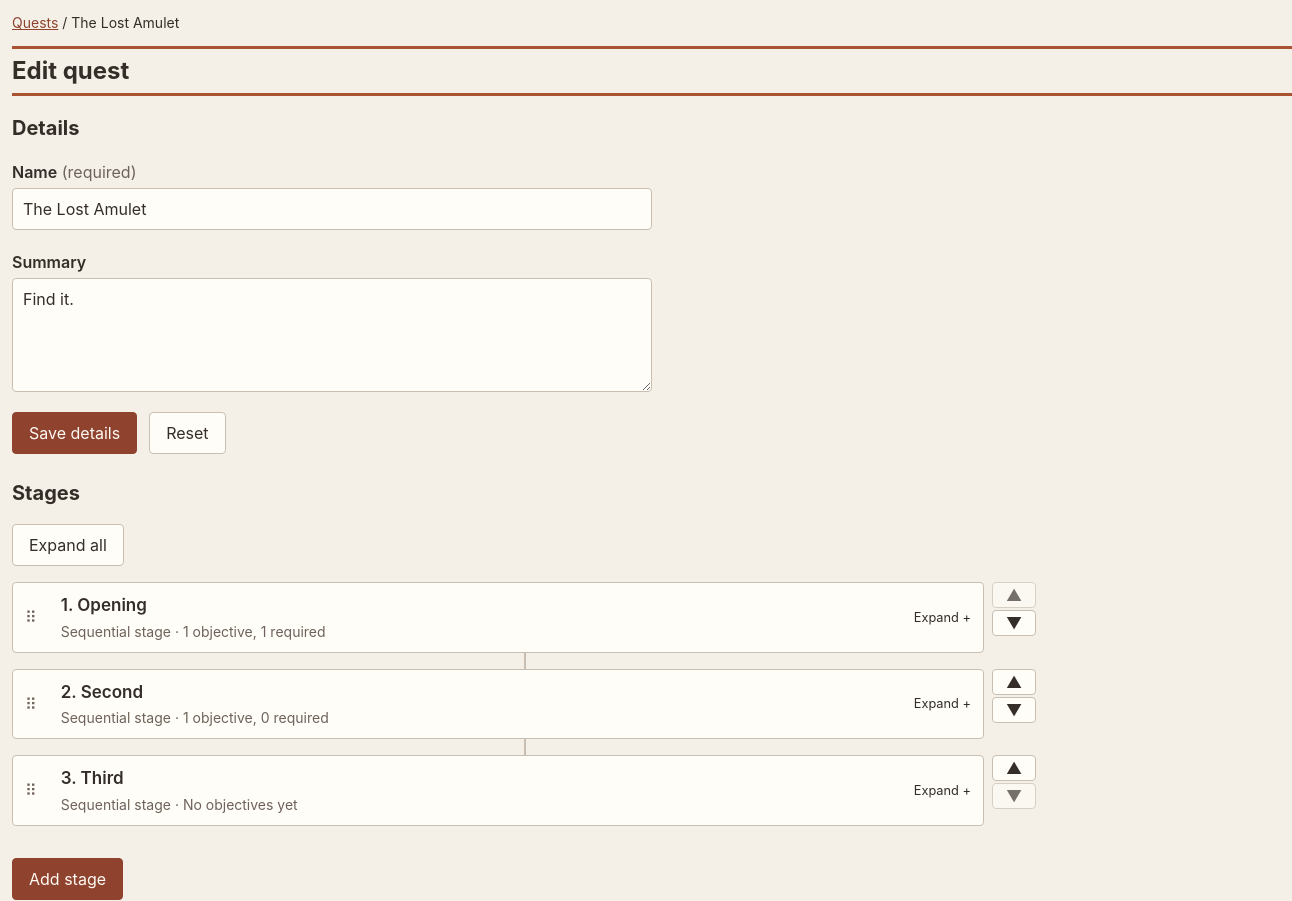
Test: Quest stage cards › starts collapsed and expands or collapses each stage independently without any request
The image size is (1292, 901).
Check: the heading "Reach the ruin" is not shown
Click the button "1. Opening": [112, 605] box [49,583,983,652]
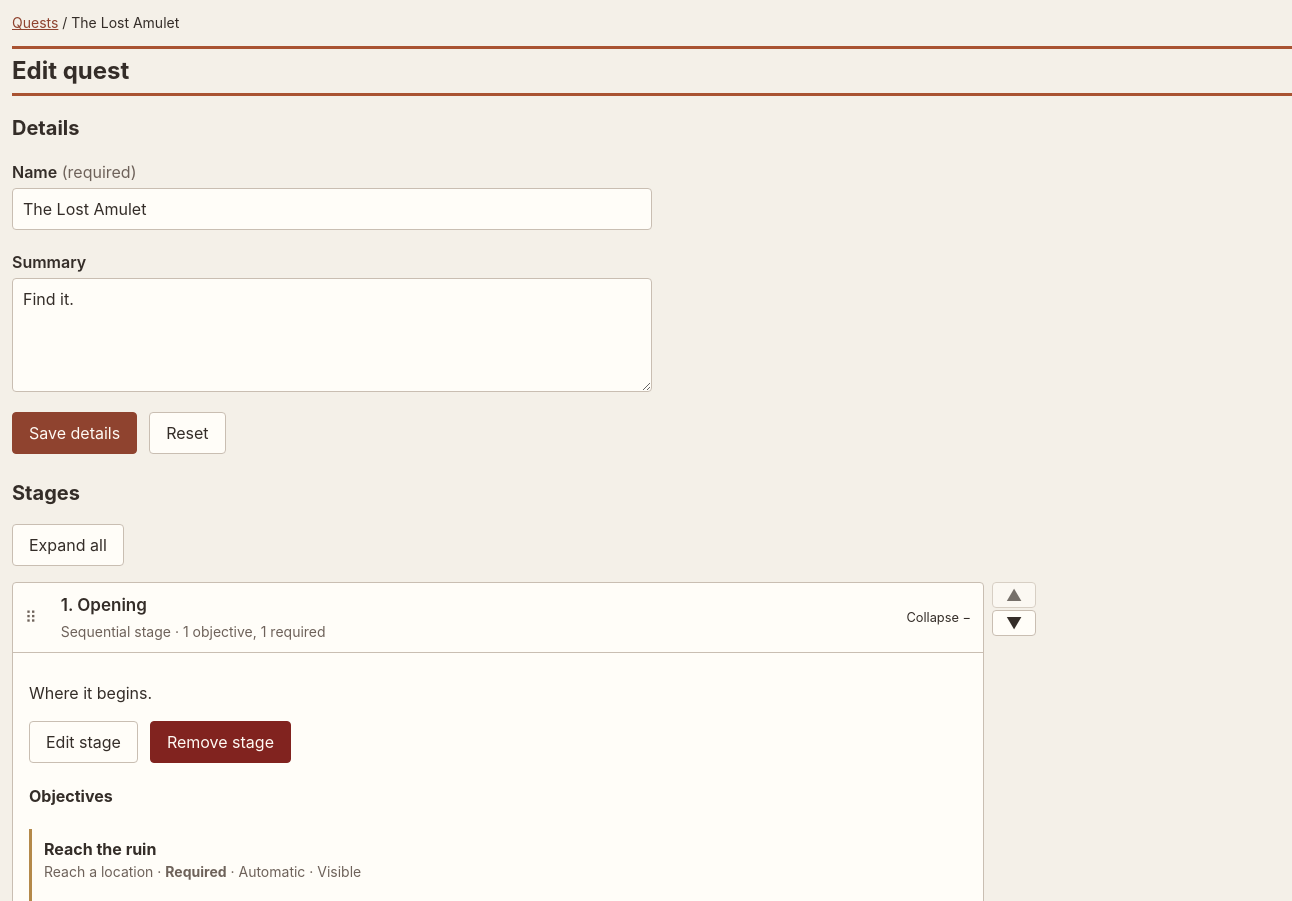
Check: the button "1. Opening" is expanded
Check: the heading "Reach the ruin" is shown, box [44,839,156,859]
Click the button "1. Opening": [112, 605] box [49,583,983,652]
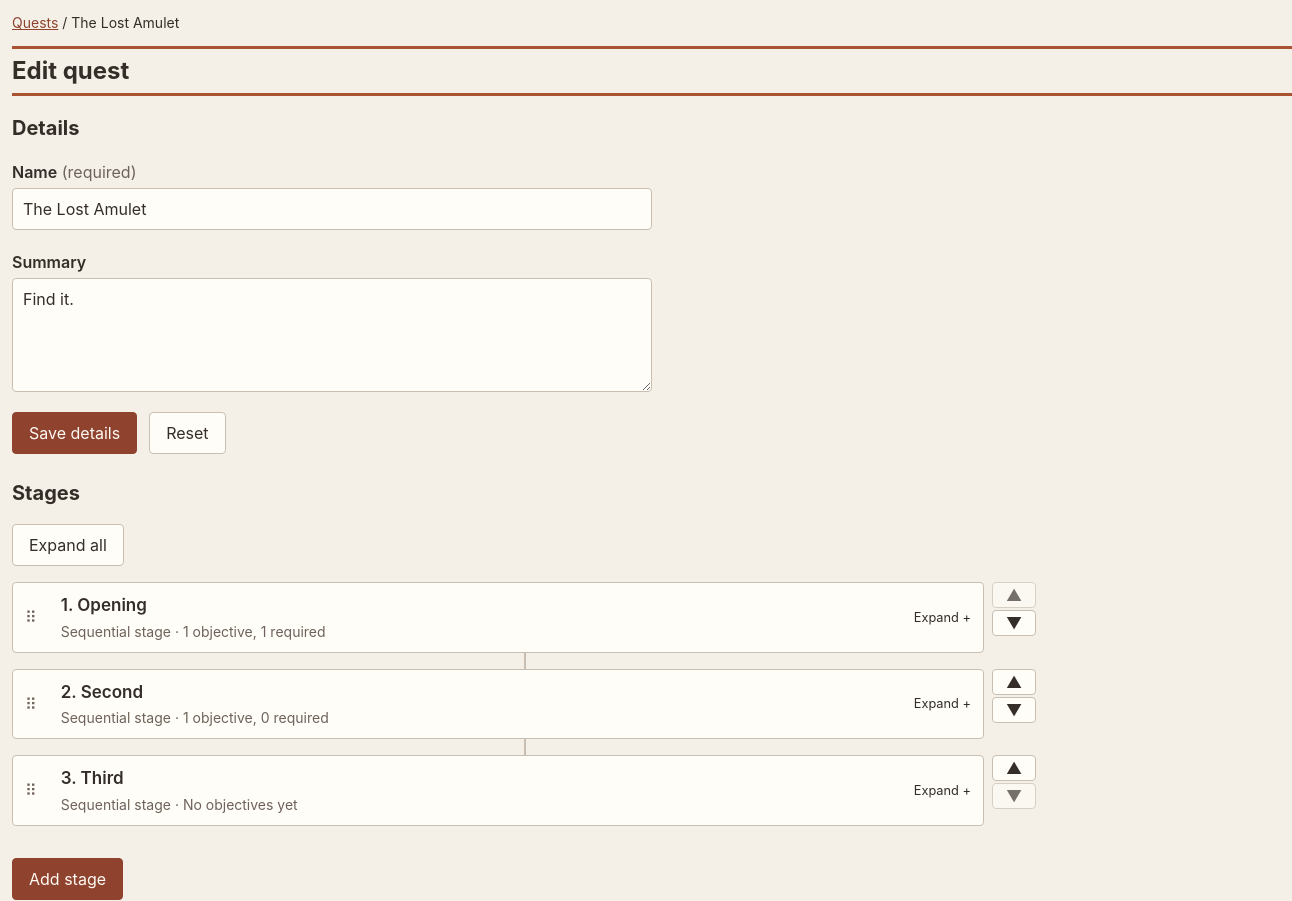
Check: the button "1. Opening" is collapsed, box [49,583,983,652]
